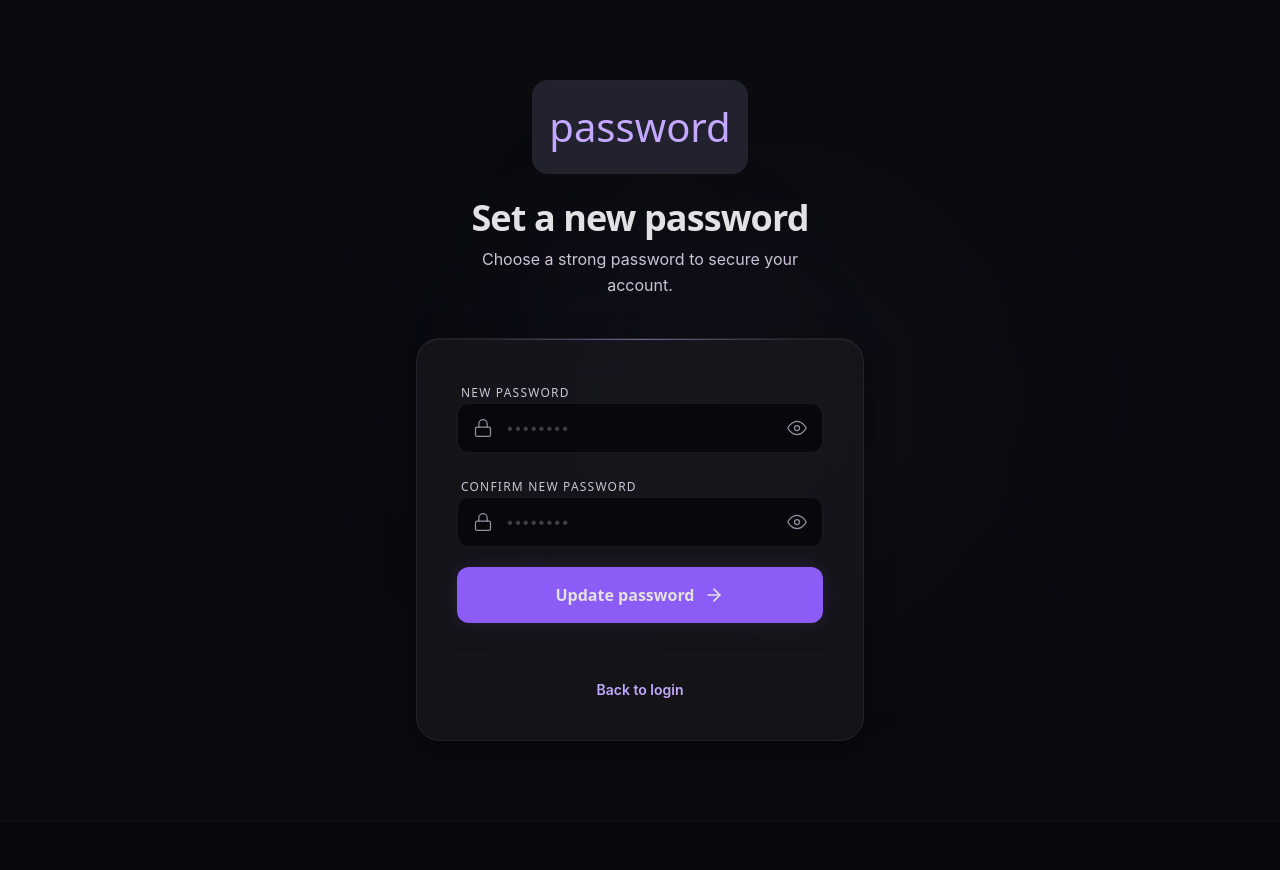
Test: ResetPasswordPage › shows a success message after the password is updated
Type "newpass123" into the password field labelled "New Password".
click(640, 428); type("newpass123")  # box [457, 403, 823, 453]
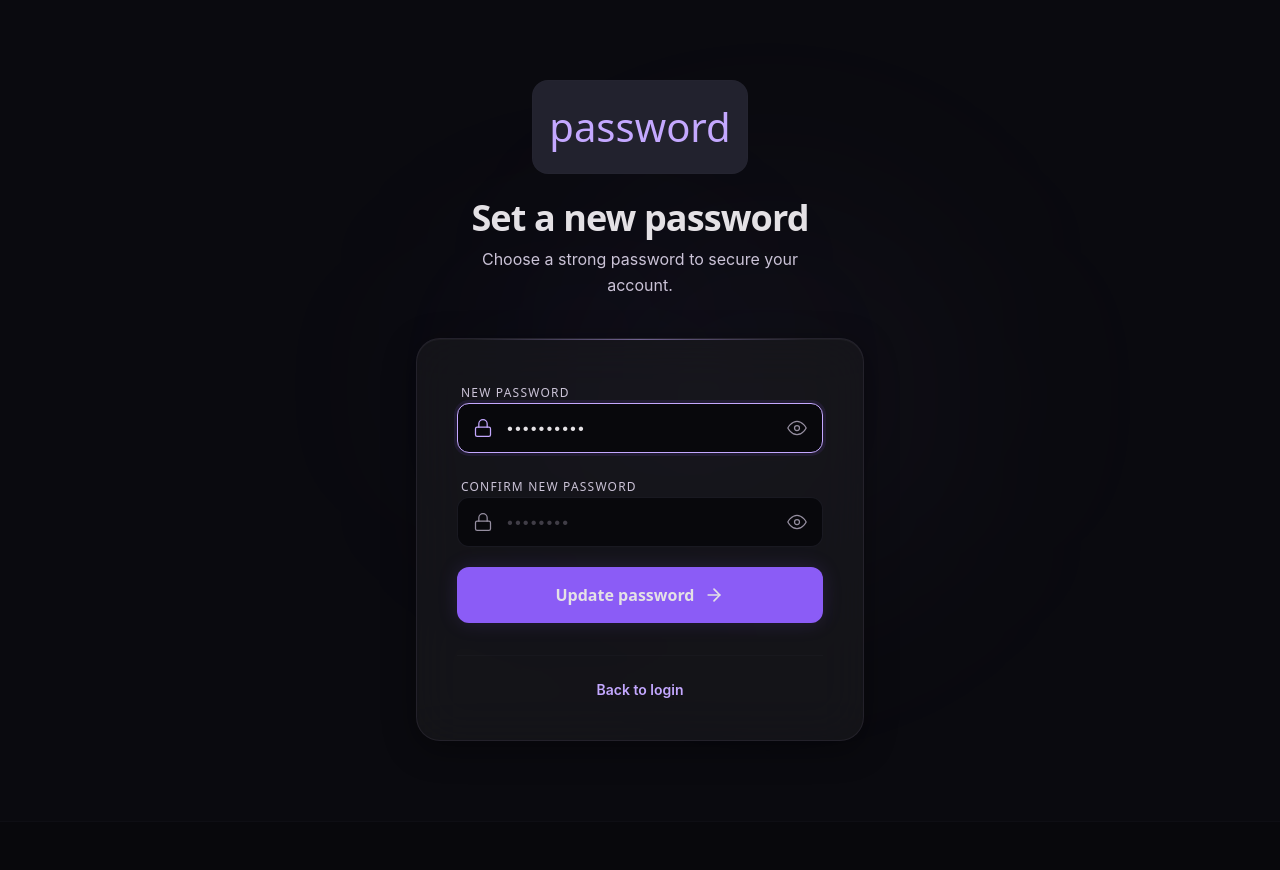
Type "newpass123" into the password field labelled "Confirm New Password".
click(640, 522); type("newpass123")  # box [457, 497, 823, 547]
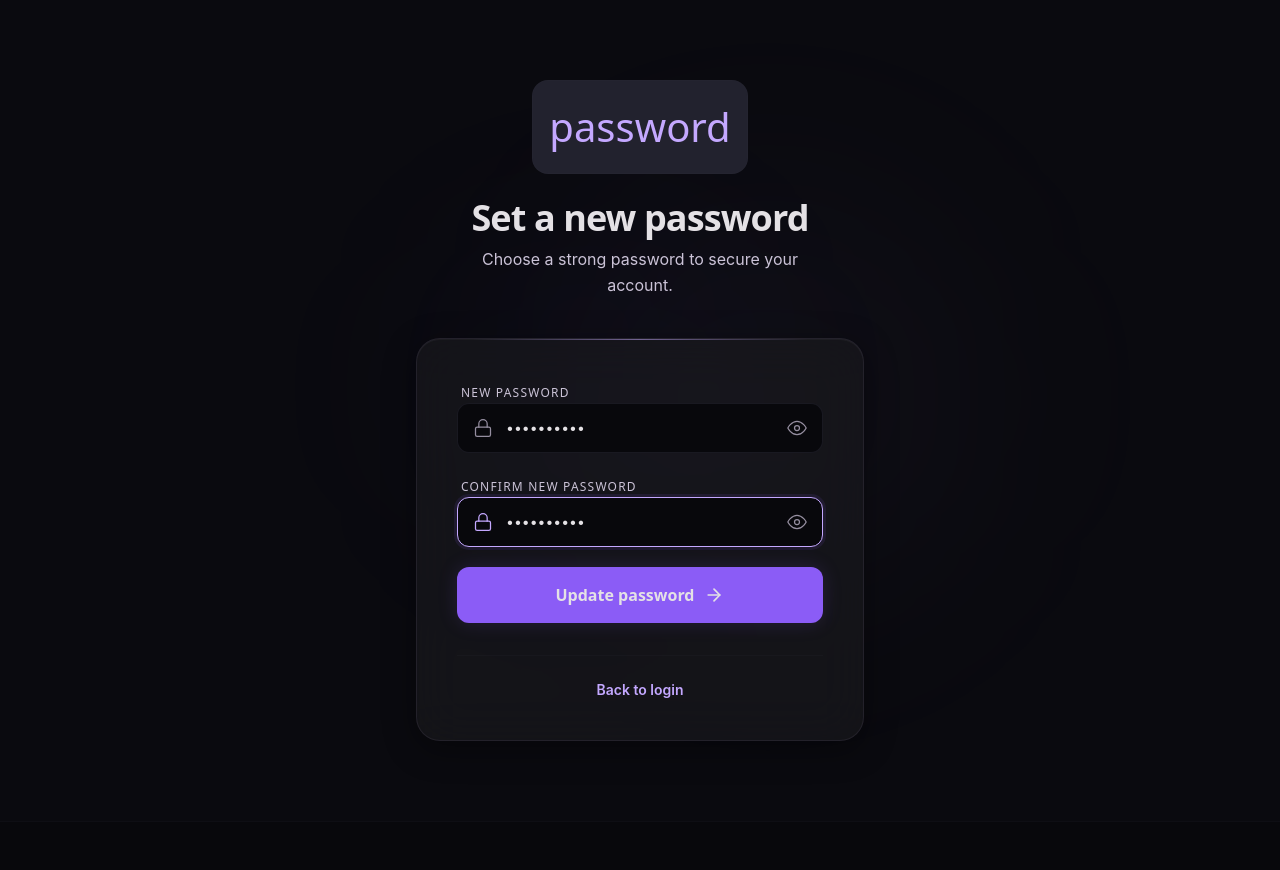
Click the button "Update password".
click(640, 595)  # box [457, 567, 823, 623]
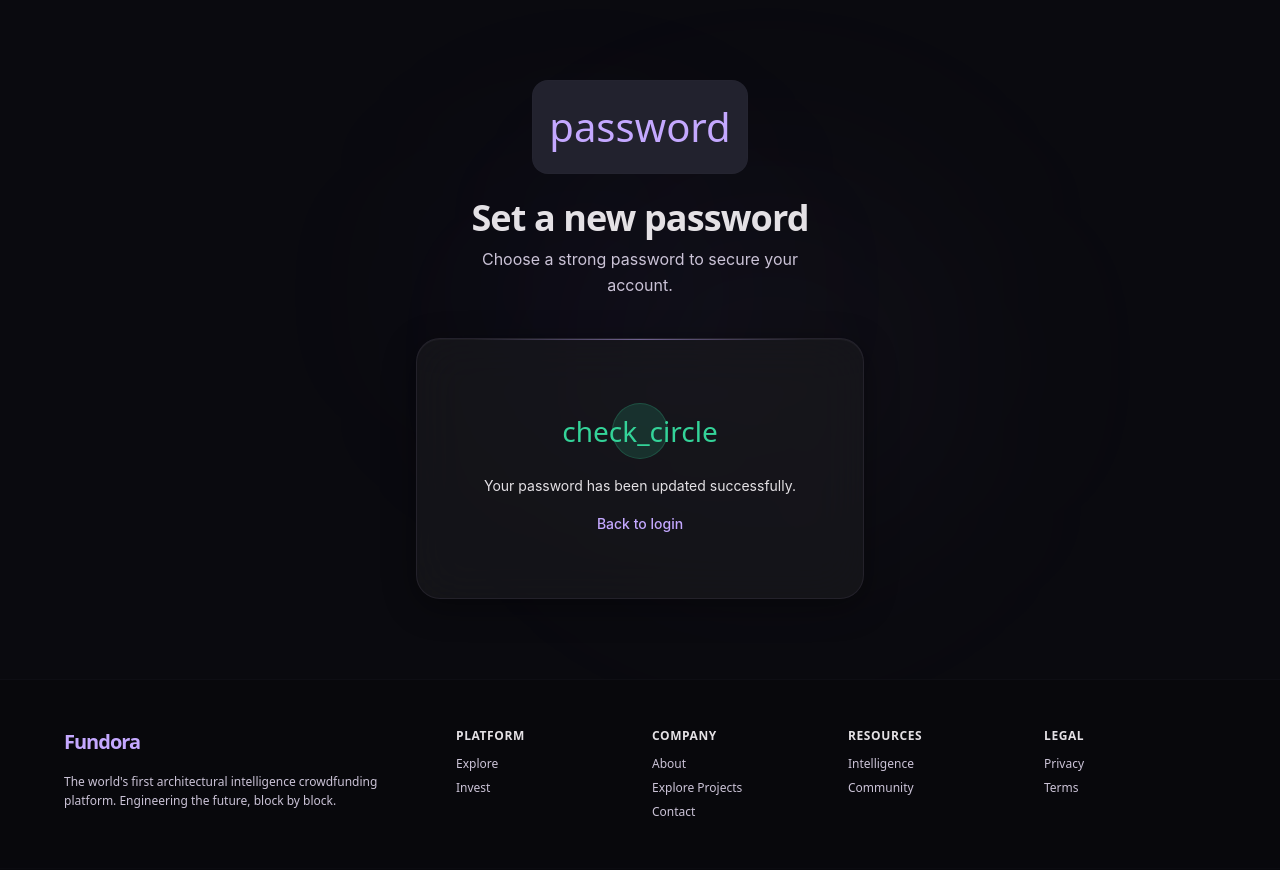
Now the text "Your password has been updated successfully." is shown, box [484, 475, 796, 498]
